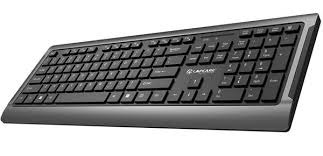keyboard: (3, 15, 323, 138)
